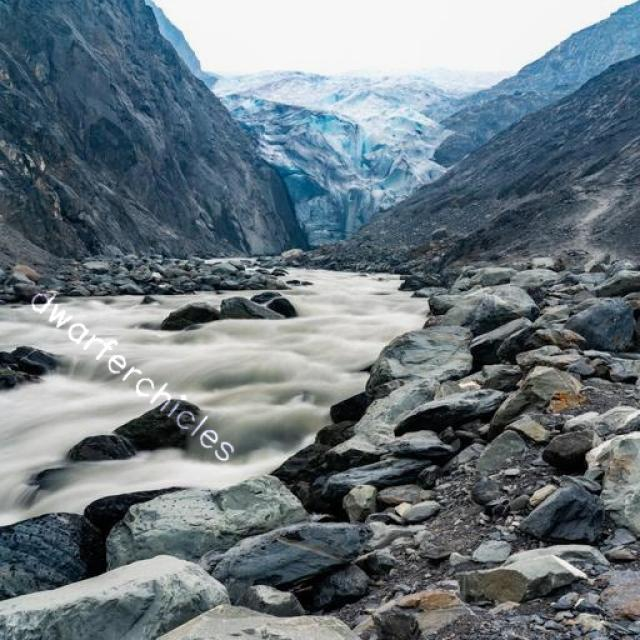watermark: (18, 275, 251, 470)
